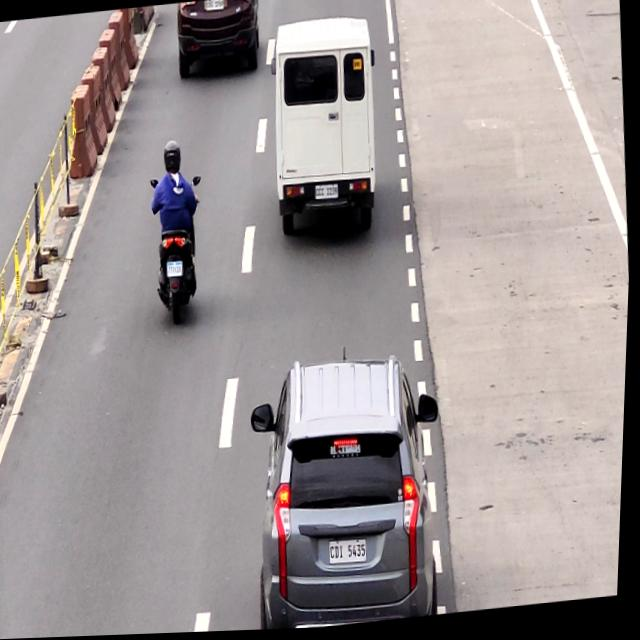Car: (251, 354, 452, 632), (268, 18, 385, 241), (172, 0, 264, 81)
License-Plate: (331, 534, 373, 570), (315, 185, 341, 204), (166, 259, 186, 279), (204, 0, 225, 12)
Motorcycle: (146, 136, 208, 328)
